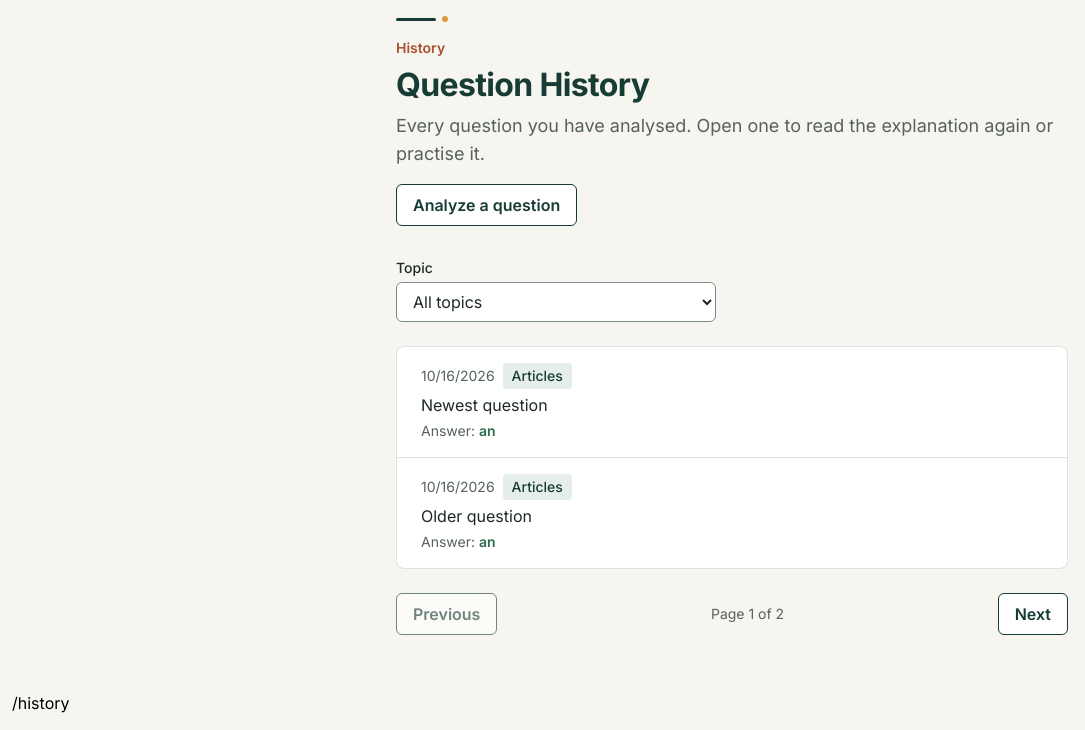
Test: HistoryPage › lists past questions, pages through them and filters by topic
Expected: the text "Page 1 of 2" is shown, [711,604,784,624]
Expected: the button "Previous" is disabled, [396,593,497,635]
Click the button "Next": (1033, 614) [998,593,1068,635]
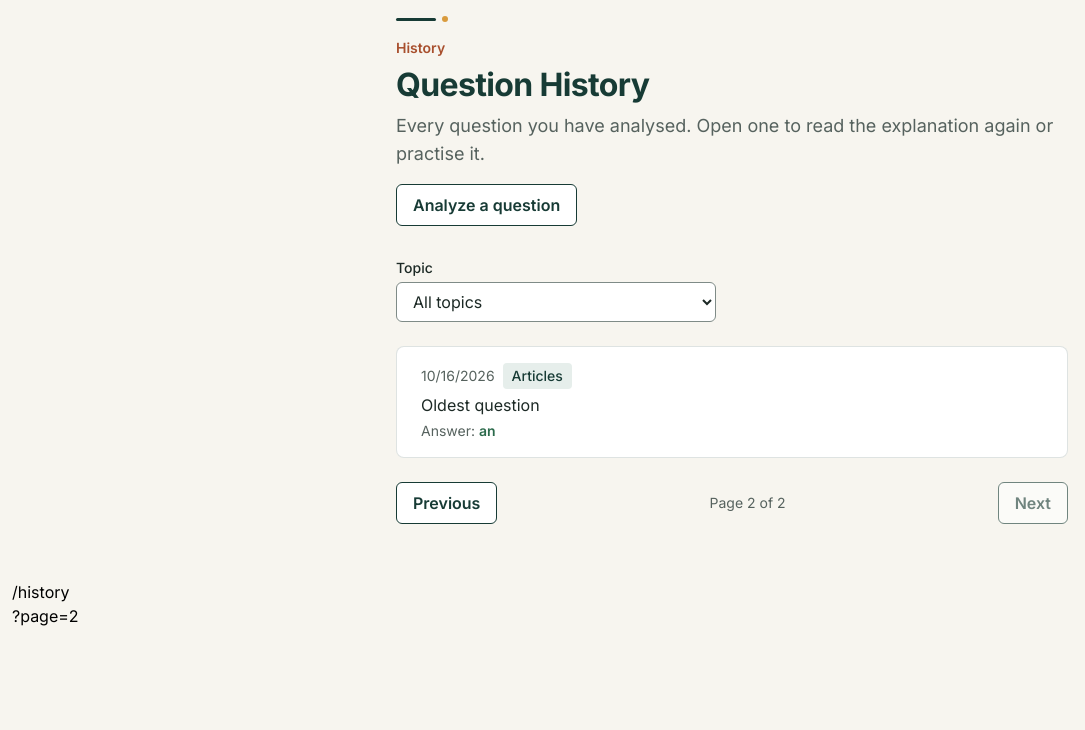
Expected: the text "Oldest question" is shown, [421,395,540,415]
Expected: the button "Next" is disabled, [998,482,1068,524]
Select "Narration (Direct and Indirect Speech)" in the dropdown labelled "Topic": (556, 302) [396,282,716,322]
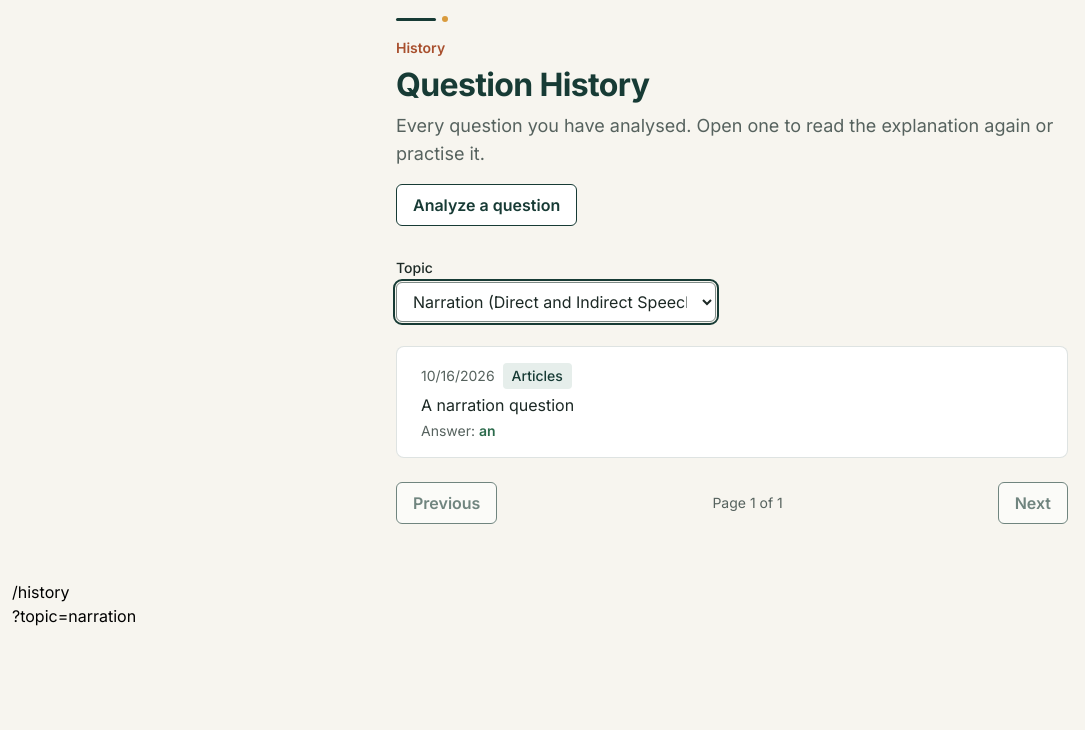
Expected: the text "A narration question" is shown, [421,395,574,415]
